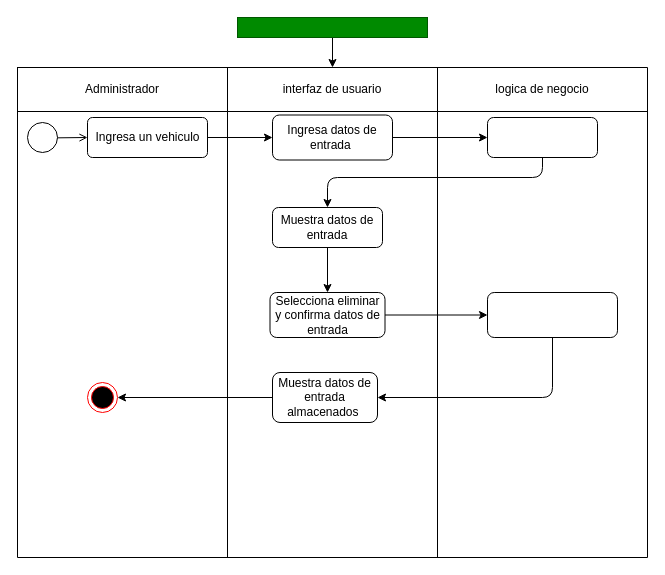
Image size: 665x575. Some labels were removed from this diagram. The shapes that lost their labels are listed below. From the top down, each one's centre as x and y in pixels, then its label:
point (332, 27): DAA.15.3.ELIMINAR VEHICULO
point (542, 137): Consulta datos de entrada
point (552, 315): Elimina datos de entrada seleccionado
